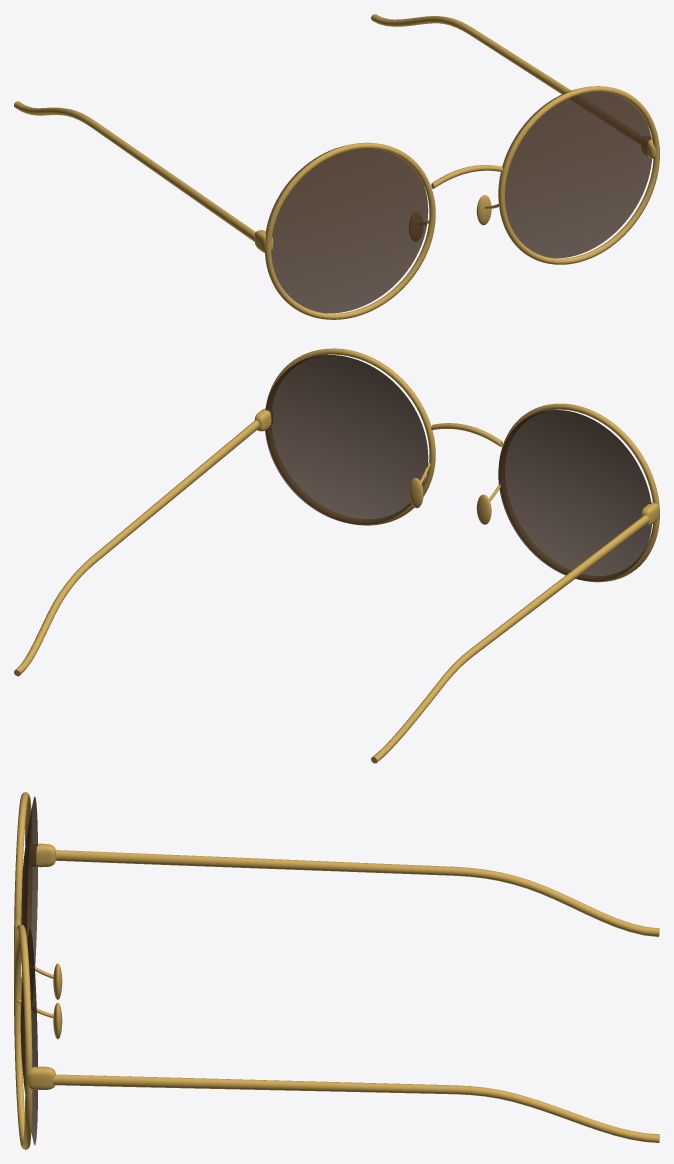
File: TO-RND-01.glb
The picture shows the model from 3 angles, top to bottom: view 1: azimuth 30°, elevation 25°; view 2: azimuth 150°, elevation 25°; view 3: azimuth 270°, elevation 25°; orthographic projection. The views are drawn at different scales.
Parts seen in each view (by area): view 1: lenses, frame; view 2: lenses, frame; view 3: frame, lenses.
Part boxes in pixels (box(x1,y1,x2,y2)): lenses: box(265, 89, 651, 313); frame: box(14, 14, 659, 319); lenses: box(265, 355, 651, 581); frame: box(14, 348, 659, 763); frame: box(14, 792, 659, 1149); lenses: box(20, 796, 37, 1145).
Size of the model in its own units: 0.1213 by 0.0505 by 0.1447.
